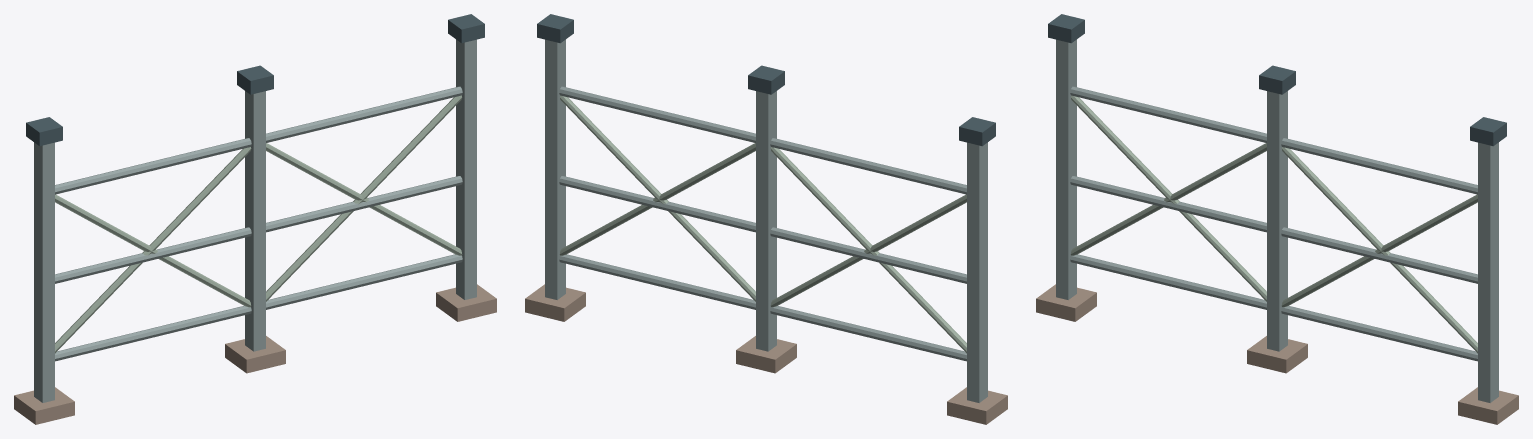
File: DF210_Fence_IndustrialPanel.glb
3 renders of one model, left to right at view 1: azimuth 30°, elevation 25°; view 2: azimuth 150°, elevation 25°; view 3: azimuth 330°, elevation 25°, orthographic.
Visible parts, largest first — view 1: Post_-2.25, Post_0, Post_2.25, Rail_2.25, Rail_0.55, Rail_1.34, DiagonalA_0, DiagonalA_1, DiagonalB_0, DiagonalB_1, Foot_-2.25, Foot_0 (+4 smaller); view 2: Post_-2.25, Post_0, Post_2.25, Rail_2.25, Rail_0.55, Rail_1.34, DiagonalA_0, DiagonalA_1, DiagonalB_0, DiagonalB_1, Foot_-2.25, Foot_0 (+4 smaller); view 3: Post_2.25, Post_-2.25, Post_0, Rail_2.25, Rail_0.55, Rail_1.34, DiagonalB_1, DiagonalB_0, DiagonalA_1, DiagonalA_0, Foot_0, Foot_2.25 (+4 smaller).
Boxes of the visible parts, x1,y1,x2,y2 form: Post_-2.25: (34,142,54,402); Post_0: (245,91,265,351); Post_2.25: (456,39,476,299); Rail_2.25: (55,86,462,194); Rail_0.55: (55,254,462,361); Rail_1.34: (55,176,462,283); DiagonalA_0: (55,147,251,353); DiagonalA_1: (266,95,461,301); DiagonalB_0: (55,194,251,307); DiagonalB_1: (266,143,462,255); Foot_-2.25: (14,387,74,424); Foot_0: (225,336,285,373); Post_-2.25: (967,142,987,402); Post_0: (756,91,776,351); Post_2.25: (545,39,565,299); Rail_2.25: (559,86,966,194); Rail_0.55: (559,254,966,361); Rail_1.34: (559,176,966,283); DiagonalA_0: (770,147,966,353); DiagonalA_1: (560,95,755,301); DiagonalB_0: (770,194,966,307); DiagonalB_1: (559,143,755,255); Foot_-2.25: (947,387,1007,424); Foot_0: (736,336,796,373); Post_2.25: (1478,142,1498,402); Post_-2.25: (1056,39,1076,299); Post_0: (1267,91,1287,351); Rail_2.25: (1070,86,1477,194); Rail_0.55: (1070,254,1477,361); Rail_1.34: (1070,176,1477,283); DiagonalB_1: (1281,147,1477,353); DiagonalB_0: (1071,95,1266,301); DiagonalA_1: (1281,194,1477,307); DiagonalA_0: (1070,143,1266,255); Foot_0: (1247,336,1307,373); Foot_2.25: (1458,387,1518,424).
Bounding box in the file's own units: 4.92 × 2.94 × 0.4.
